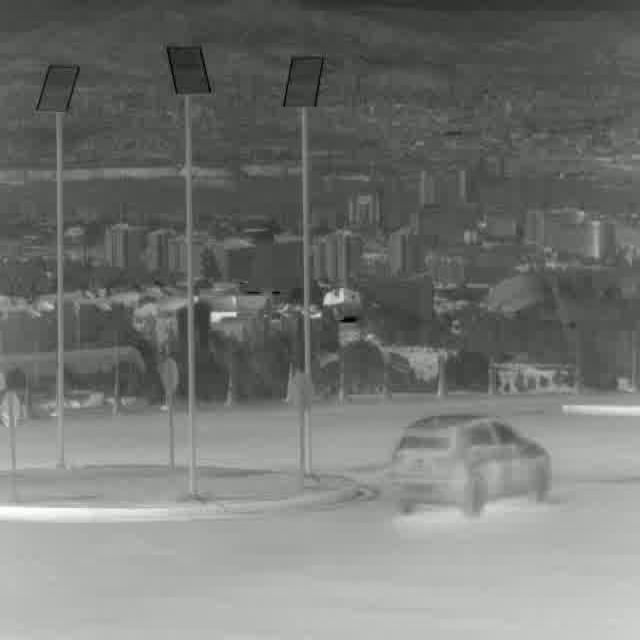Car: (390, 415, 553, 514)
